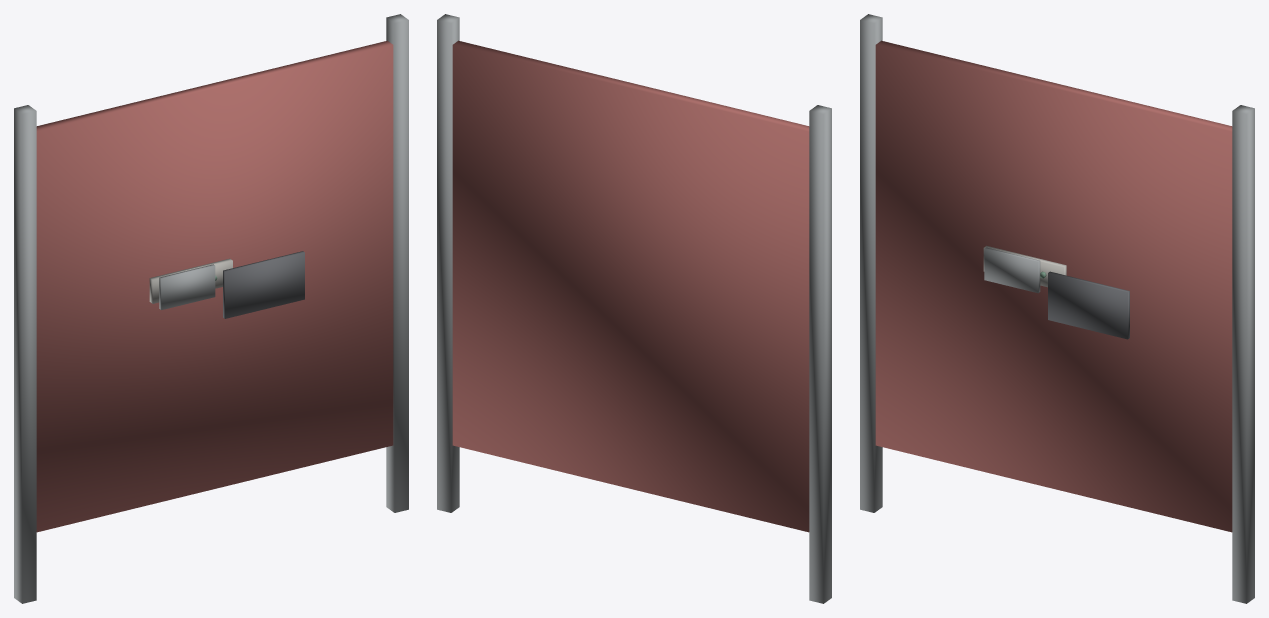
The model's file is welding_screen__weathered.glb.
The picture shows the model from 3 angles, left to right: view 1: azimuth 30°, elevation 25°; view 2: azimuth 150°, elevation 25°; view 3: azimuth 330°, elevation 25°; orthographic projection.
Visible parts, largest first — view 1: world; view 2: world; view 3: world.
Part boxes in pixels (bbox=[...]): world: bbox=[14, 14, 408, 603]; world: bbox=[437, 14, 831, 603]; world: bbox=[860, 14, 1254, 603].
Size of the model in its own units: 1.35 by 1.63 by 0.095.
